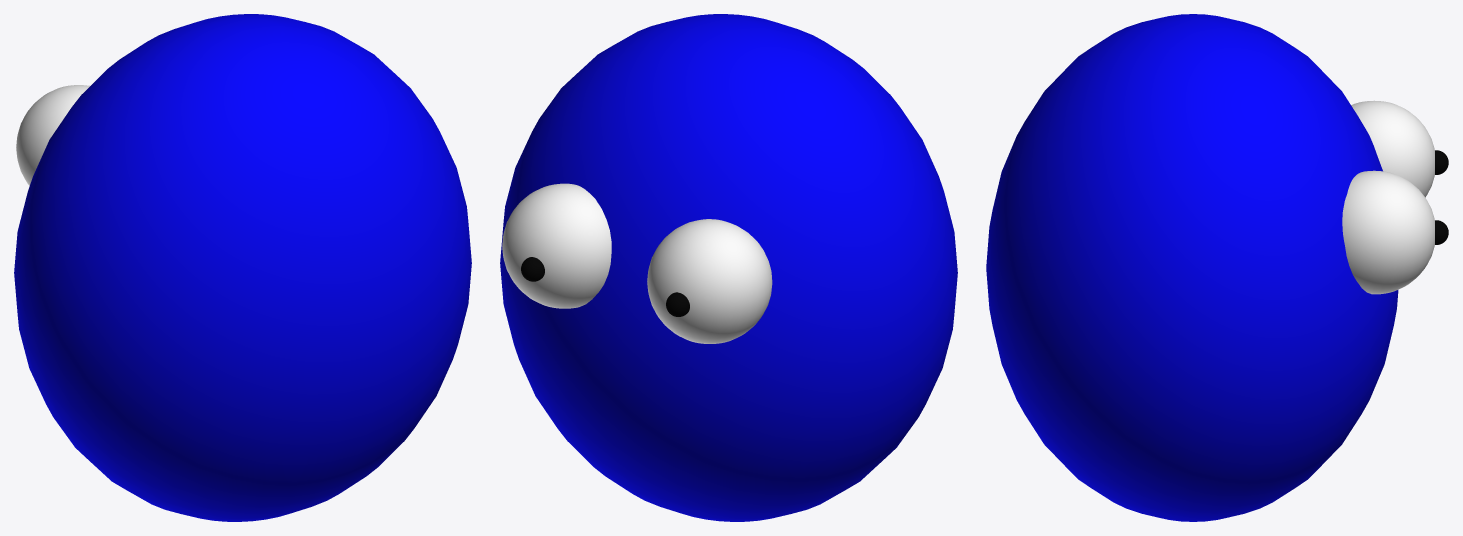
The model's file is puppet-blue.glb.
3 renders of one model, left to right at view 1: azimuth 30°, elevation 25°; view 2: azimuth 150°, elevation 25°; view 3: azimuth 270°, elevation 25°, orthographic.
Size of the model in its own units: 0.9 by 1 by 0.894.
